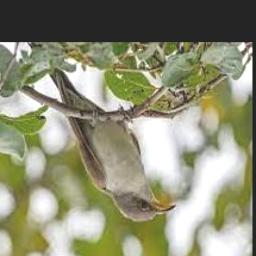Cuckoo: (27, 42, 176, 222)
